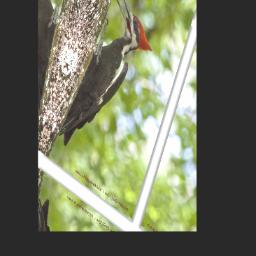Woodpecker: (57, 0, 162, 183)
